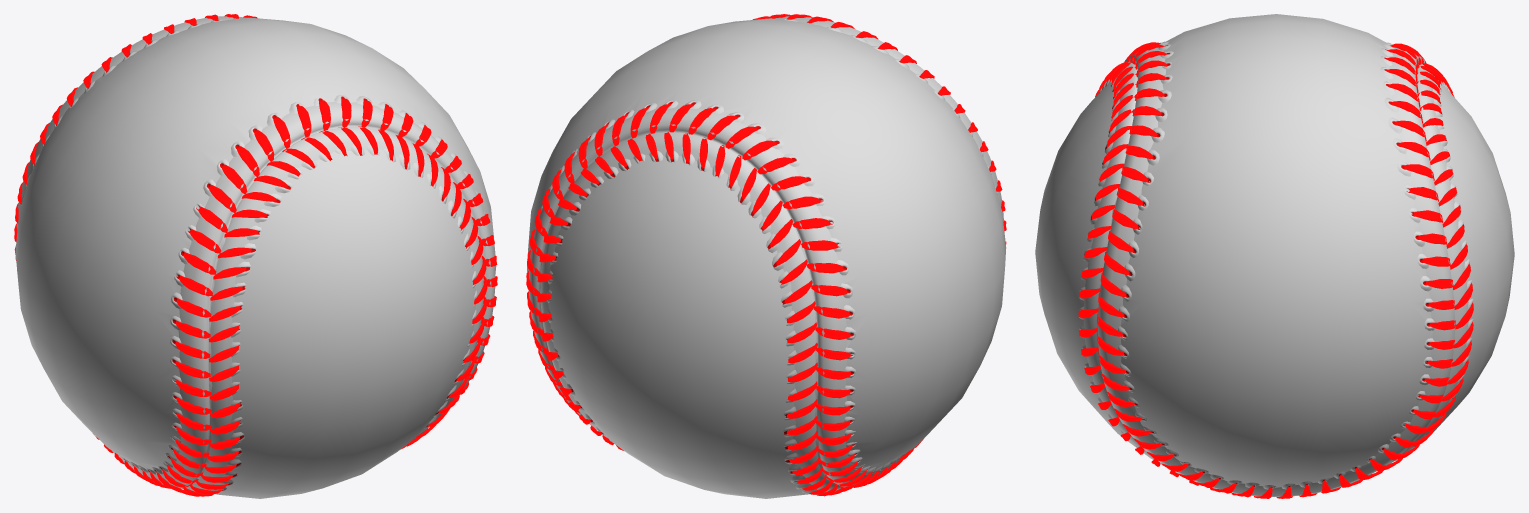
File: baseball4.glb
3 views of the same model, side by side, from view 1: azimuth 30°, elevation 25°; view 2: azimuth 150°, elevation 25°; view 3: azimuth 270°, elevation 25° (orthographic).
Visible parts, largest first — view 1: Ball_Whites, Ball_Seams, Cube006_0, Ball_Lace_Bumps, Cube006_1; view 2: Ball_Whites, Ball_Seams, Cube006_0, Ball_Lace_Bumps, Cube006_1; view 3: Ball_Whites, Ball_Seams, Cube006_0, Ball_Lace_Bumps, Cube006_1.
Part boxes in pixels (box(x1,y1,x2,y2)): Ball_Whites: box(15, 17, 496, 498); Ball_Seams: box(16, 16, 495, 491); Cube006_0: box(14, 14, 497, 496); Ball_Lace_Bumps: box(21, 18, 490, 492); Cube006_1: box(26, 20, 473, 490); Ball_Whites: box(527, 18, 1006, 498); Ball_Seams: box(528, 16, 1004, 491); Cube006_0: box(526, 14, 1006, 496); Ball_Lace_Bumps: box(535, 19, 997, 494); Cube006_1: box(551, 19, 990, 481); Ball_Whites: box(1035, 14, 1514, 487); Ball_Seams: box(1083, 47, 1468, 496); Cube006_0: box(1078, 42, 1473, 498); Ball_Lace_Bumps: box(1079, 41, 1473, 489); Cube006_1: box(1084, 45, 1471, 487).
Bounding box in the file's own units: 0.25 × 0.25 × 0.25.
